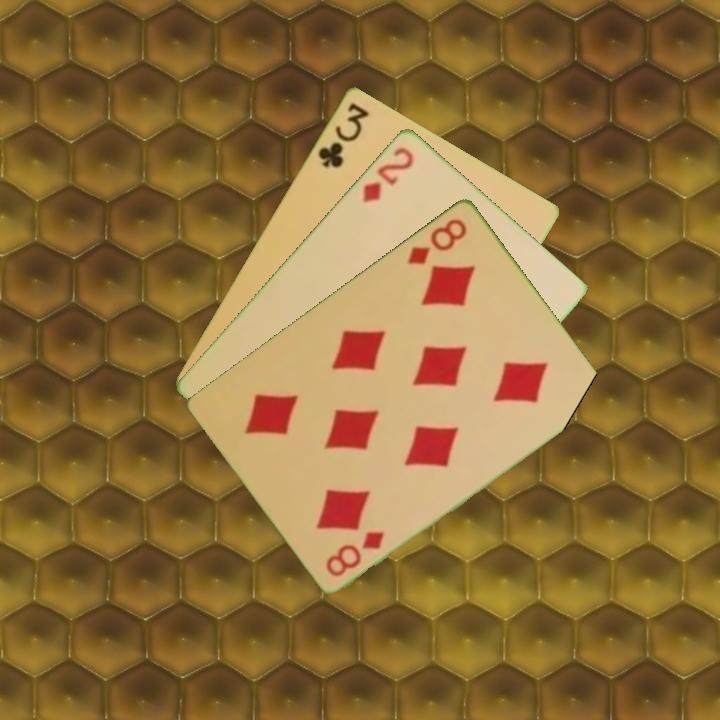2d: (359, 143, 417, 205)
3c: (314, 98, 372, 171)
8d: (403, 214, 470, 268), (322, 527, 388, 579)
